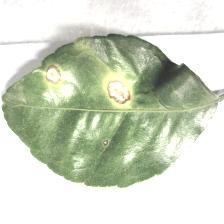canker: (28, 48, 153, 123)
